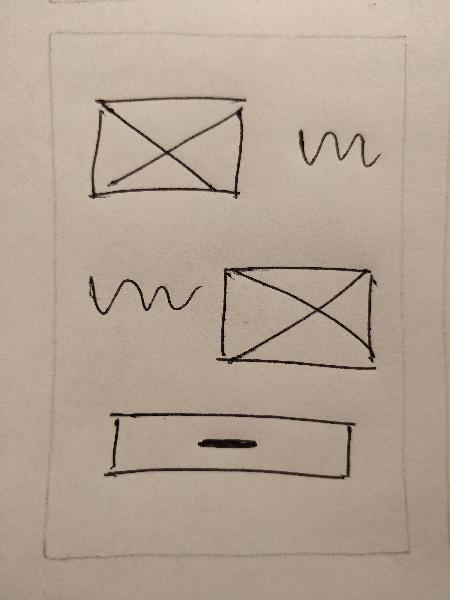button: (99, 403, 357, 490)
image: (213, 258, 383, 377), (85, 89, 247, 212)
text: (80, 267, 205, 334), (285, 119, 389, 180)
